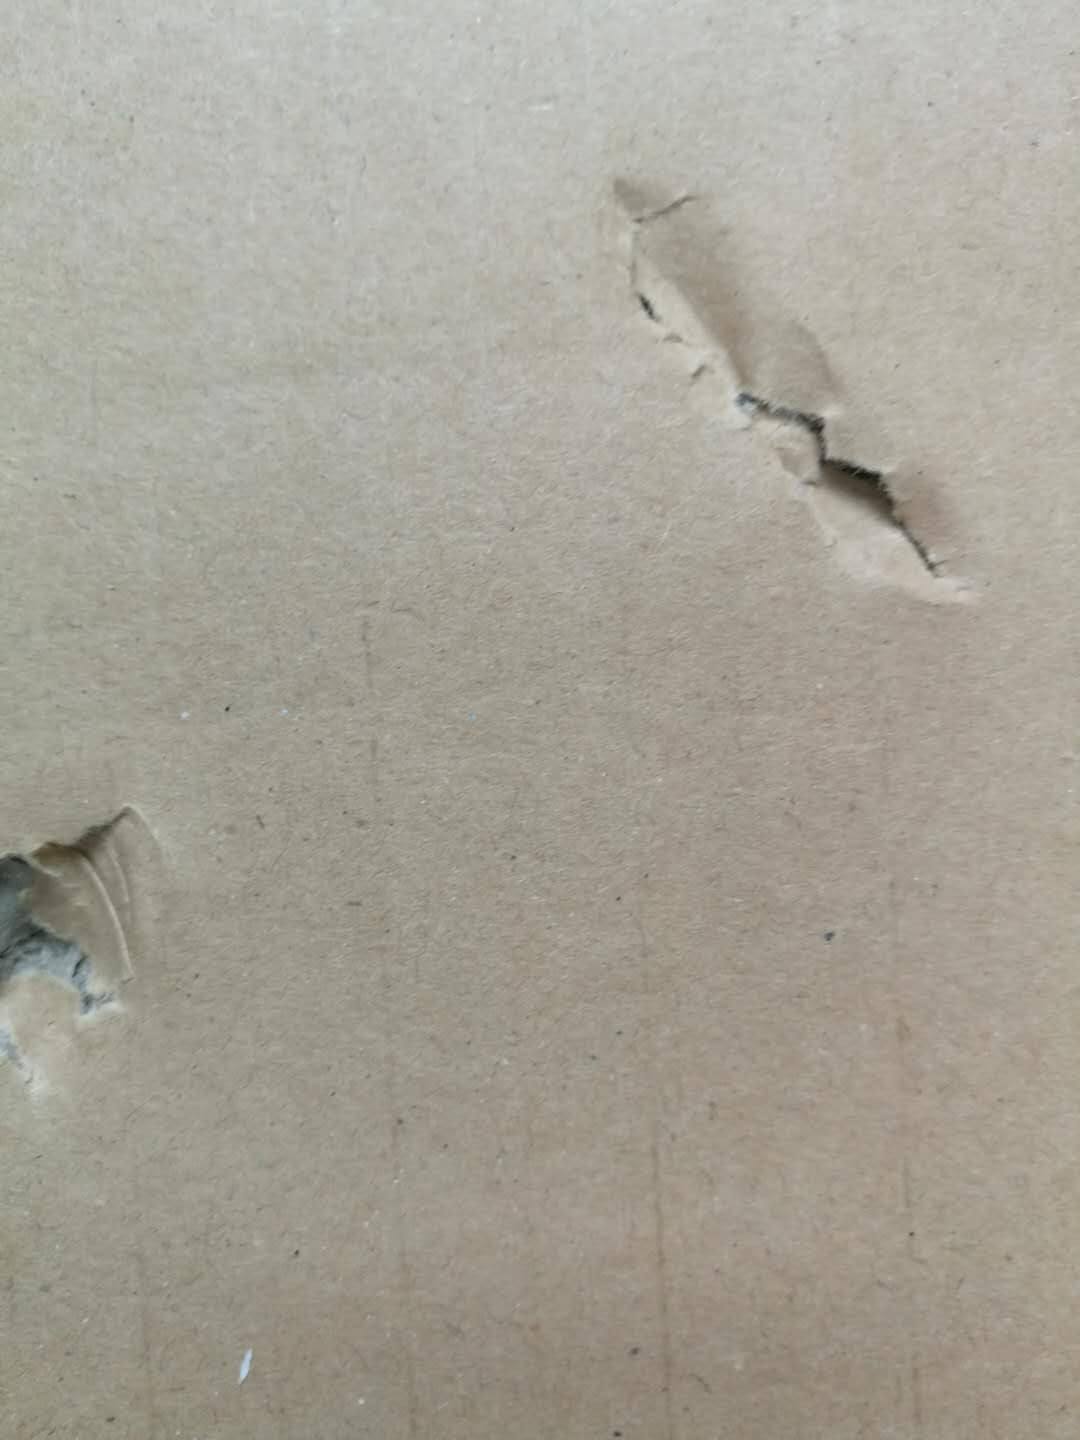defect: (580, 145, 1011, 625), (3, 735, 208, 1168)
